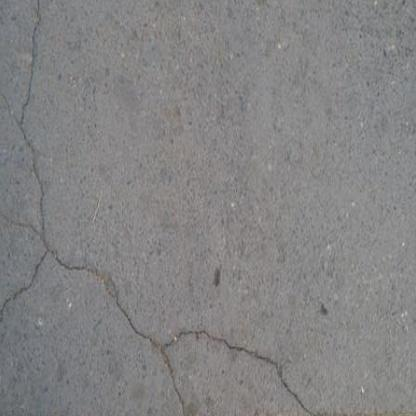Cracks: (129, 292, 325, 416), (7, 0, 75, 298), (0, 187, 123, 304), (0, 268, 59, 366), (101, 266, 146, 341)
